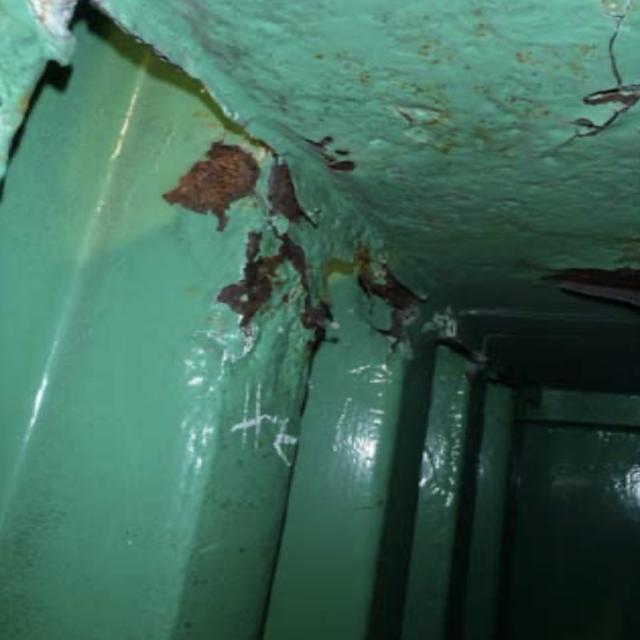corrosion: (176, 132, 453, 392), (560, 40, 640, 167)
